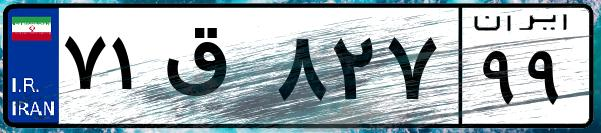1: (110, 28, 158, 98)
2: (330, 28, 385, 110)
7: (385, 28, 445, 110), (57, 26, 110, 100)
8: (270, 28, 330, 110)
9: (475, 38, 525, 113), (525, 38, 570, 115)
ق: (158, 20, 270, 120)
